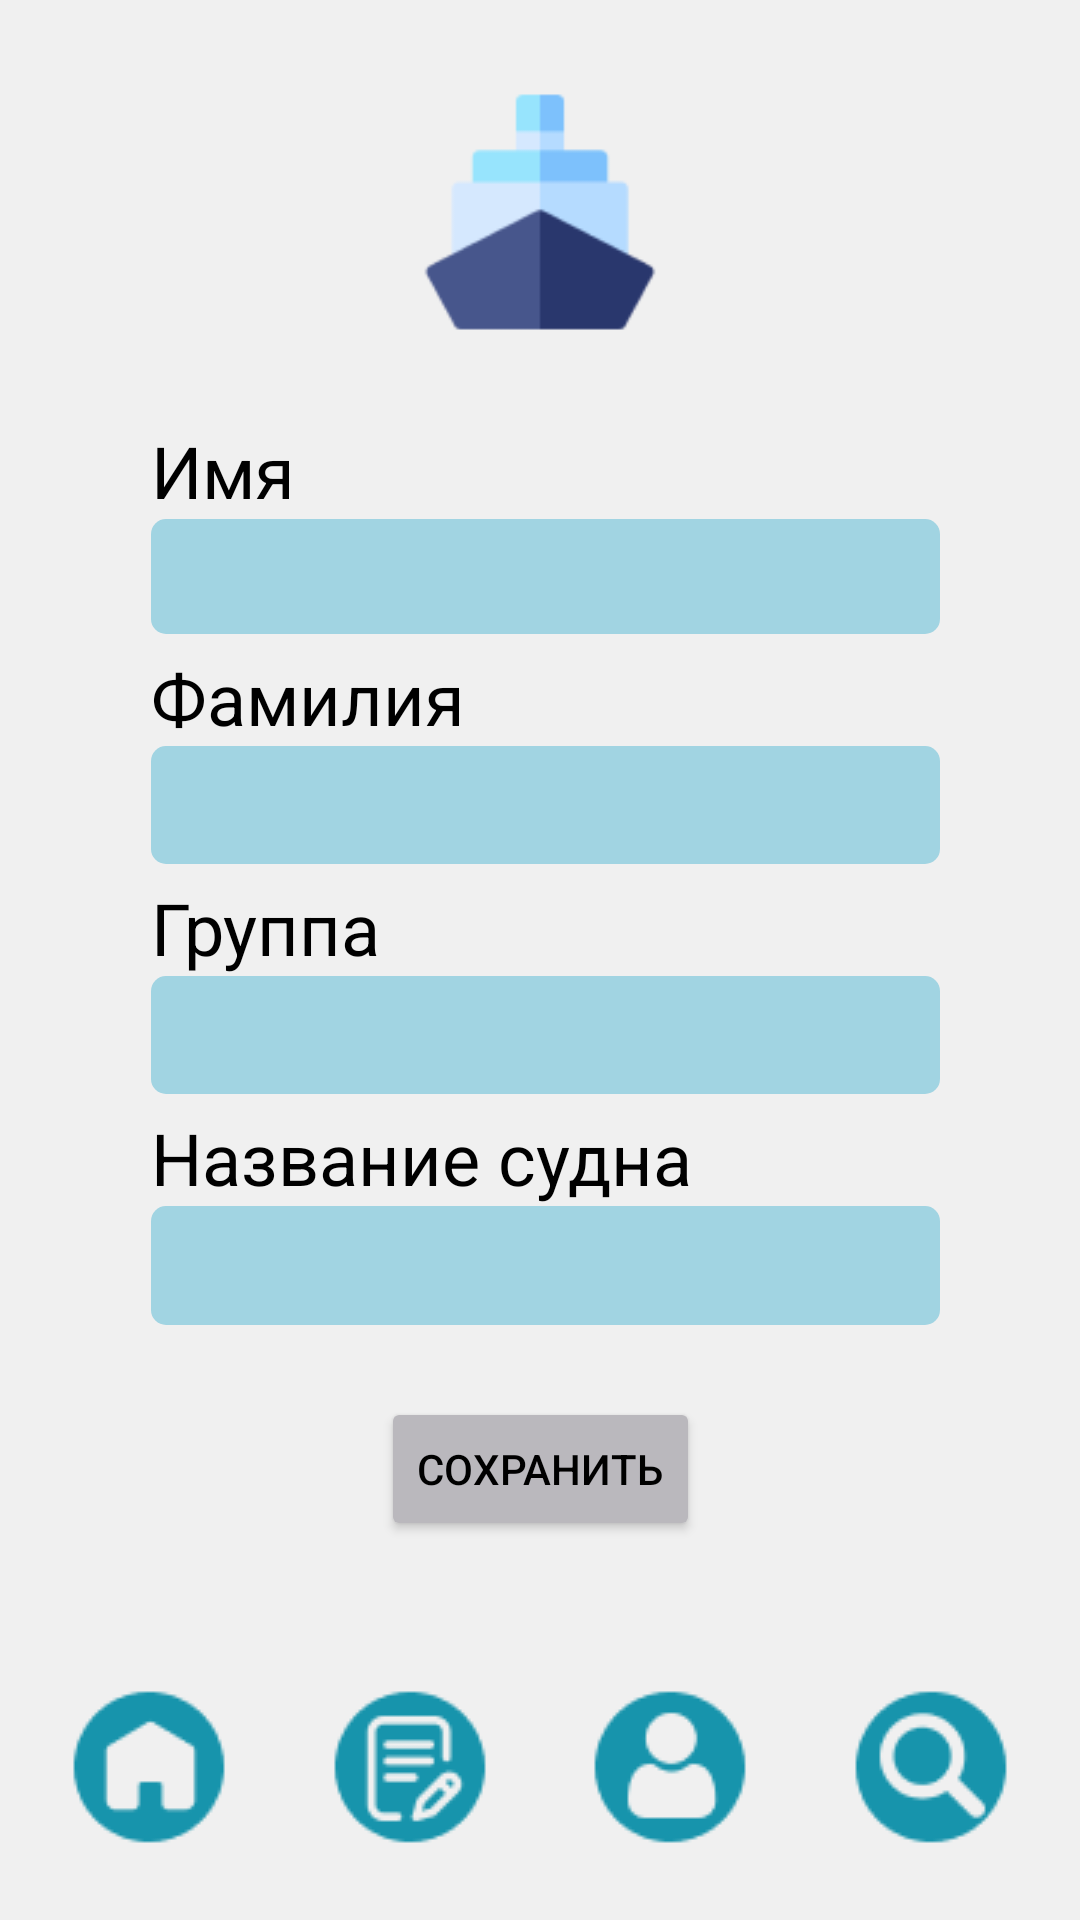

Named icons in this screenshot (1080*1920) and their centers, [x,y]:
diary: [410,1767]
home: [149,1767]
profile: [670,1767]
ship: [540,212]
